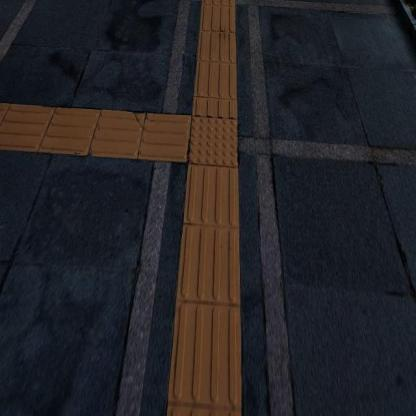podotacti: (165, 167, 247, 415), (166, 72, 263, 208), (0, 102, 189, 162), (192, 1, 240, 111)
